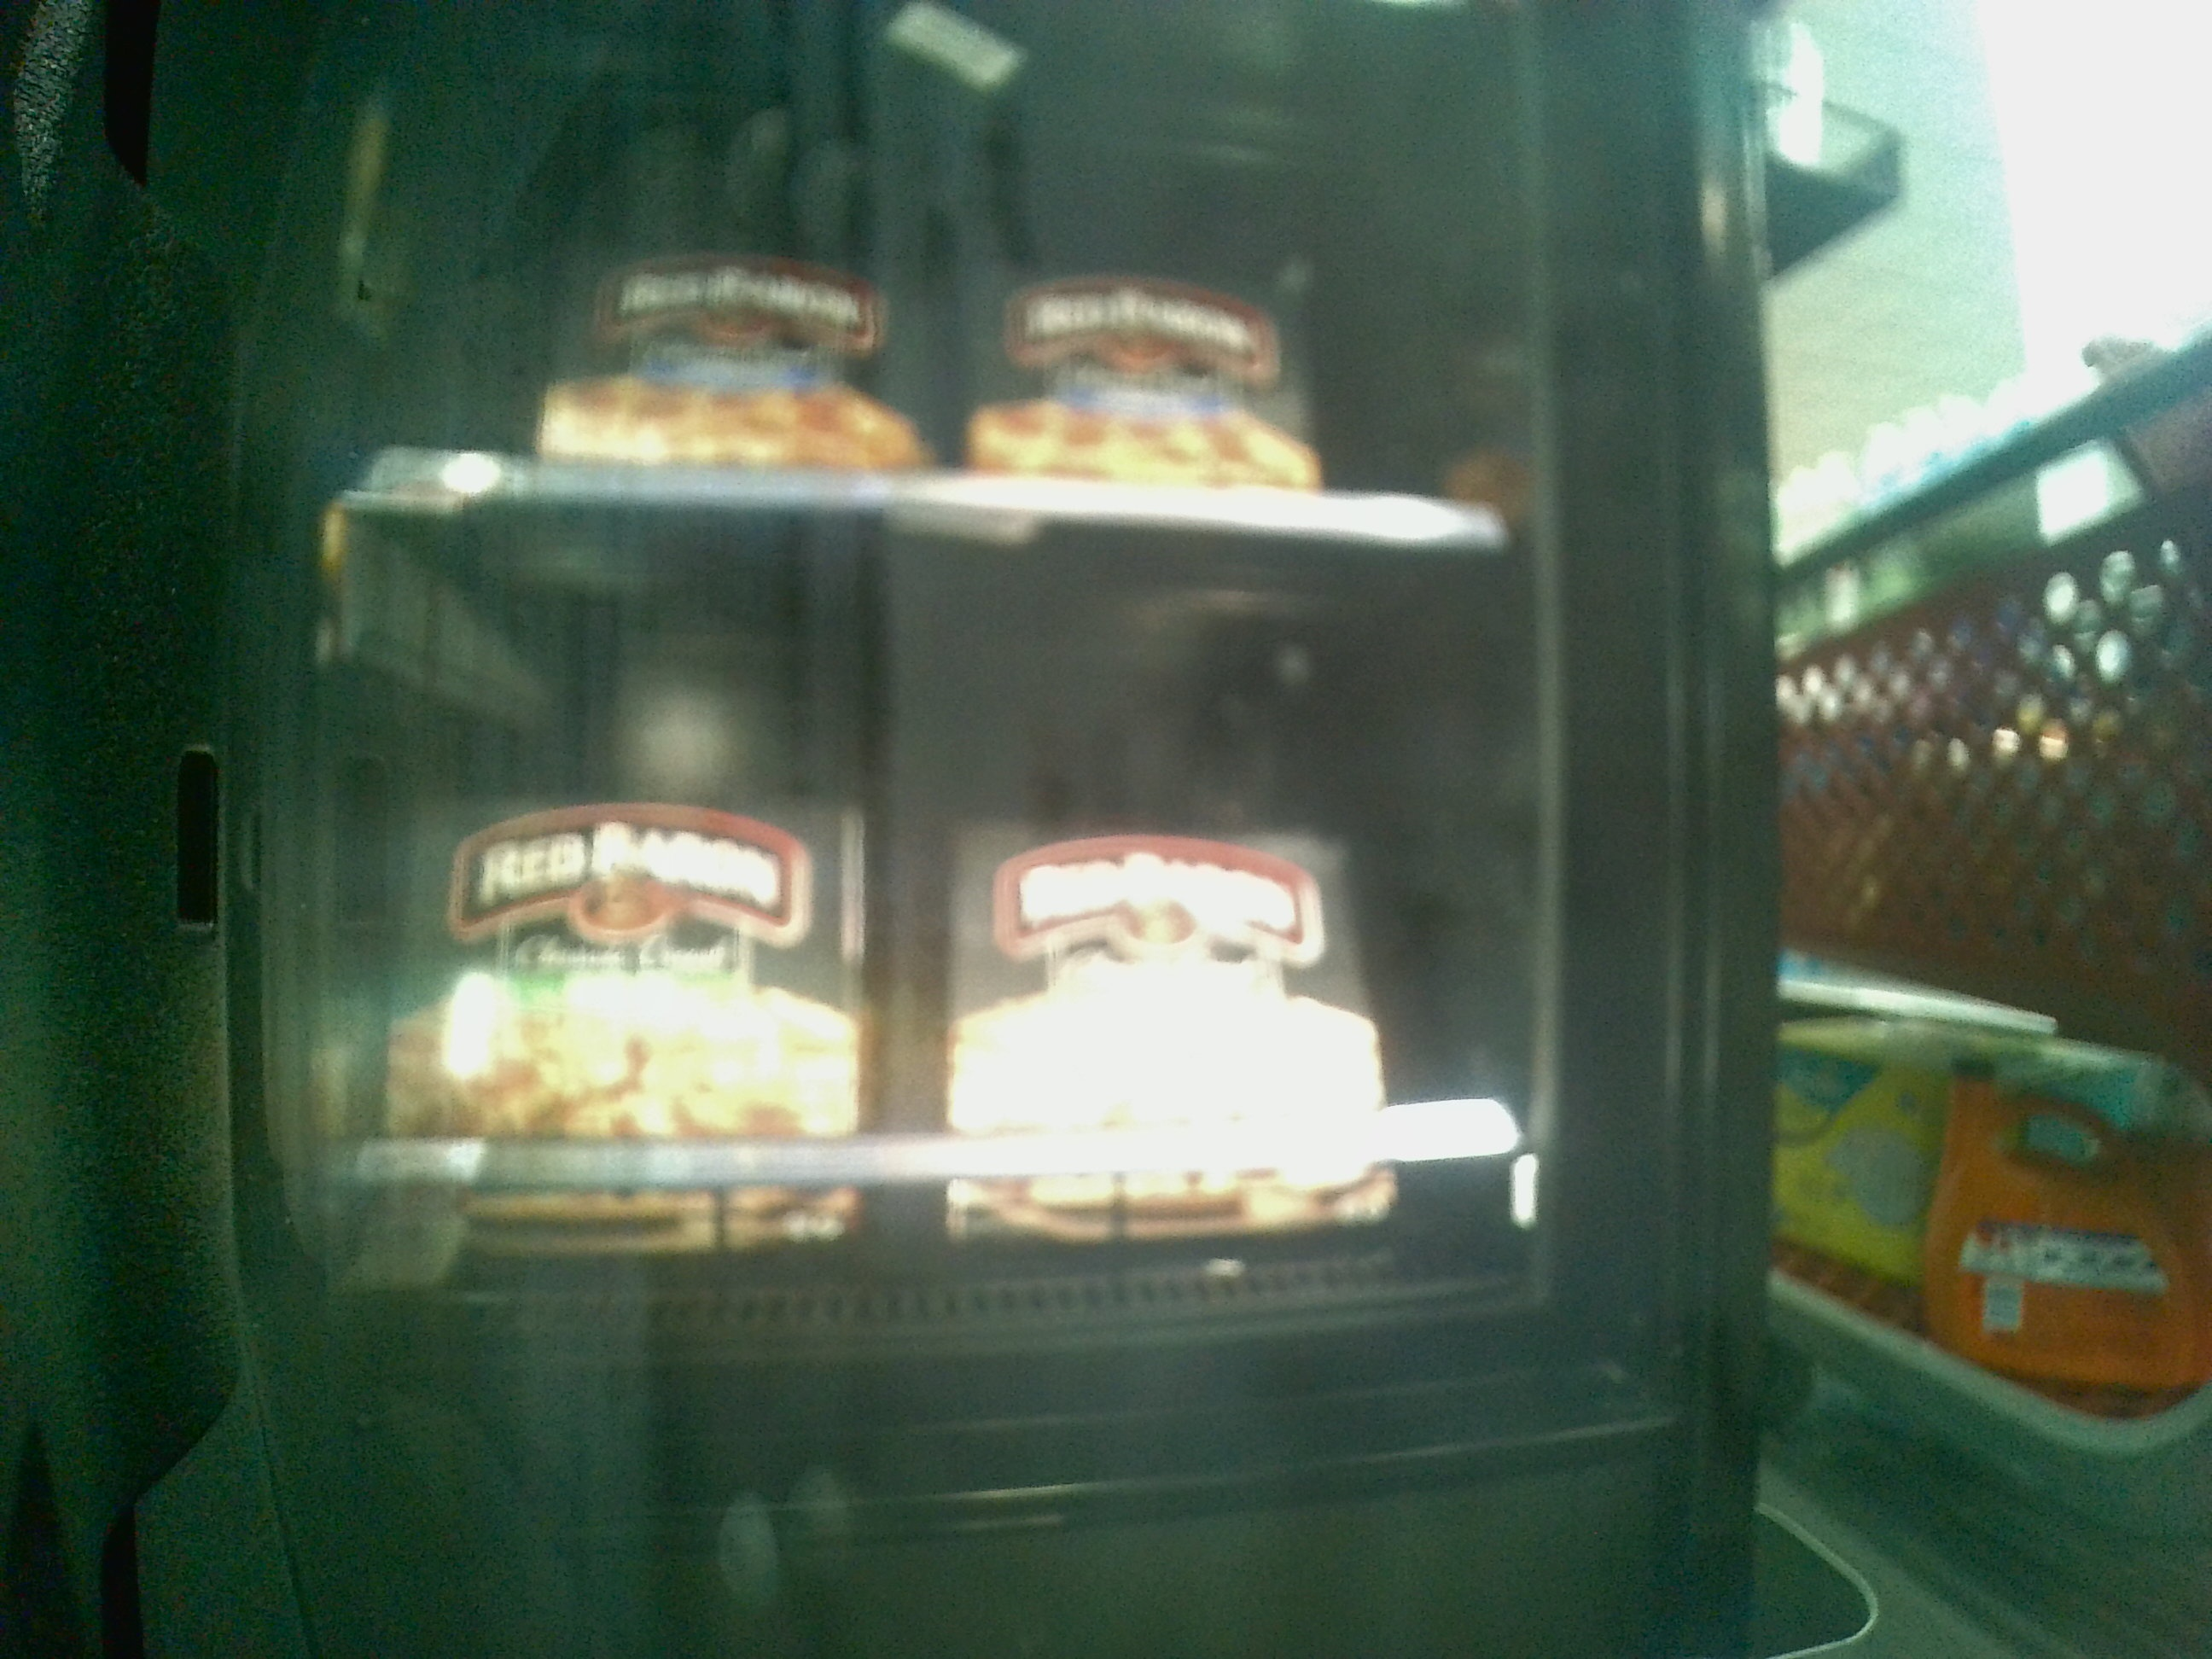shelf: (338, 526, 1529, 1295)
